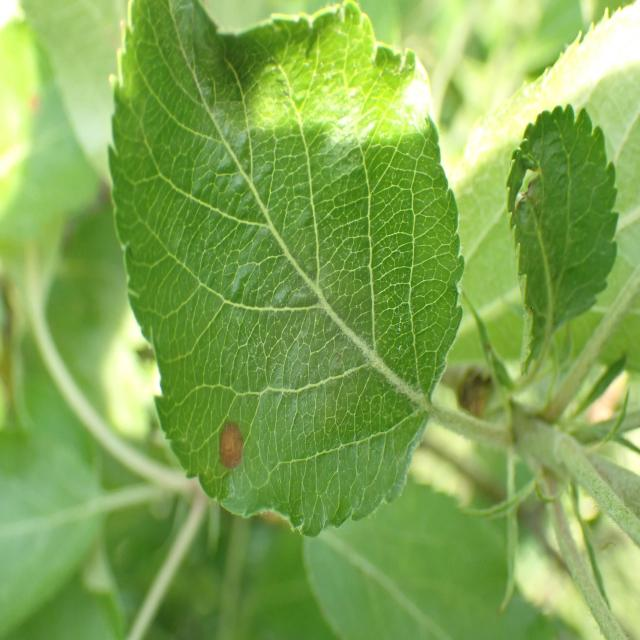Black Rot: (212, 395, 251, 489)
